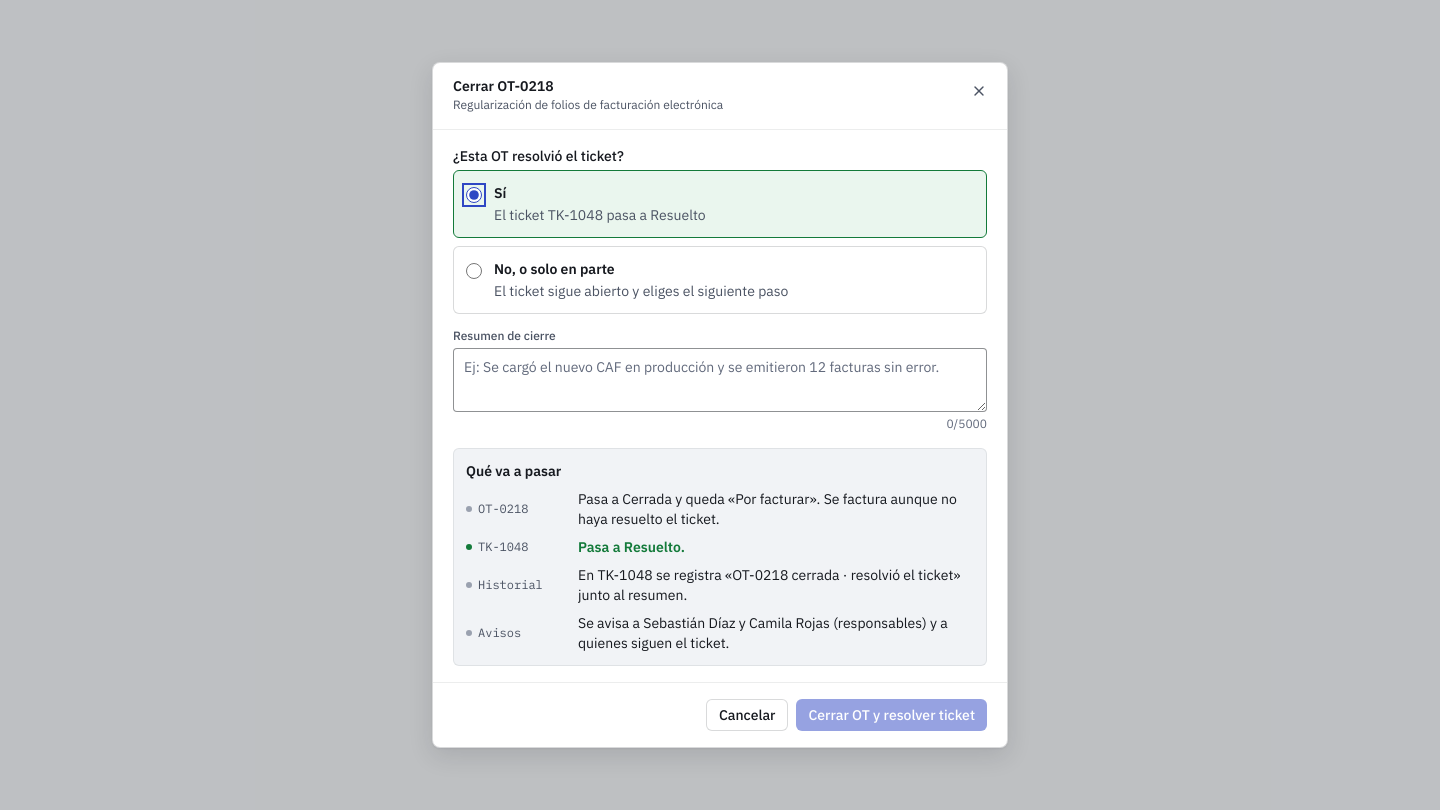
Test: 409 OT_ABIERTA reemplaza el contenido por la lista de OT con enlaces
This screenshot has width=1440, height=810.
Type "Listo" into the text box labelled "Resumen de cierre" at (720, 380), box [453, 348, 987, 412]
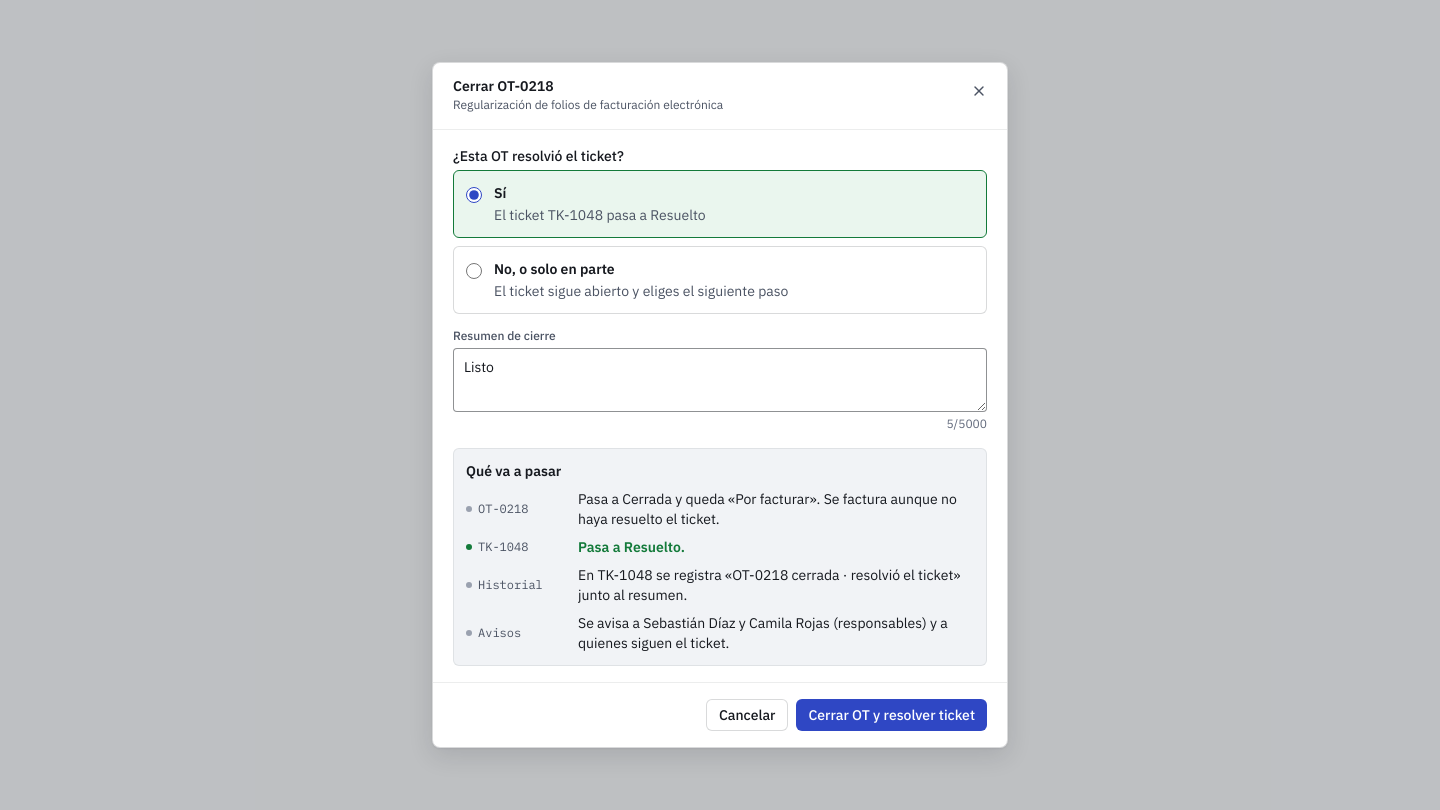
Click the button "Cerrar OT y resolver ticket" at (892, 715), box [796, 699, 987, 731]
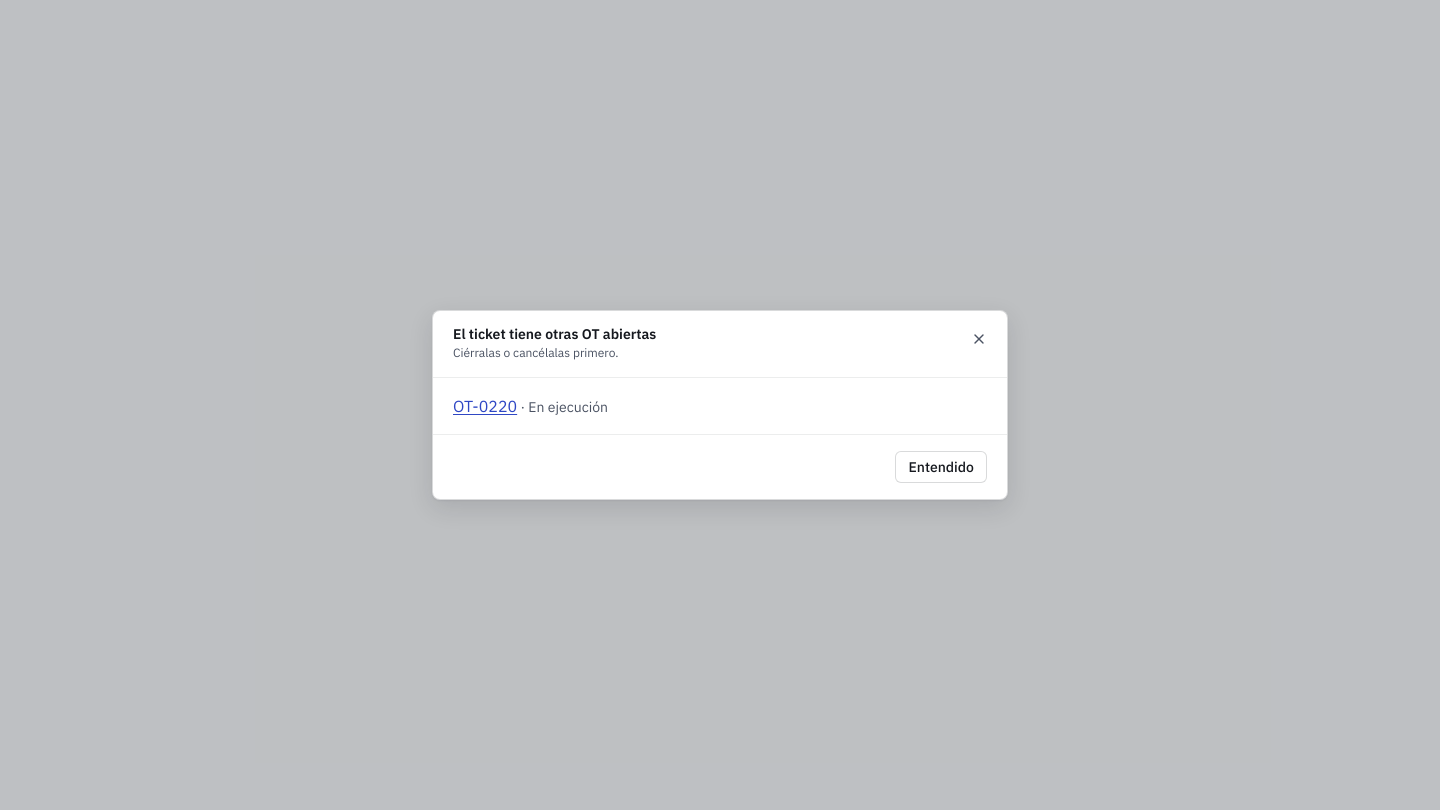
Expected: the heading "El ticket tiene otras OT abiertas" is shown, [453, 325, 656, 343]
Expected: the text "· En ejecución" is shown, [517, 398, 608, 416]
